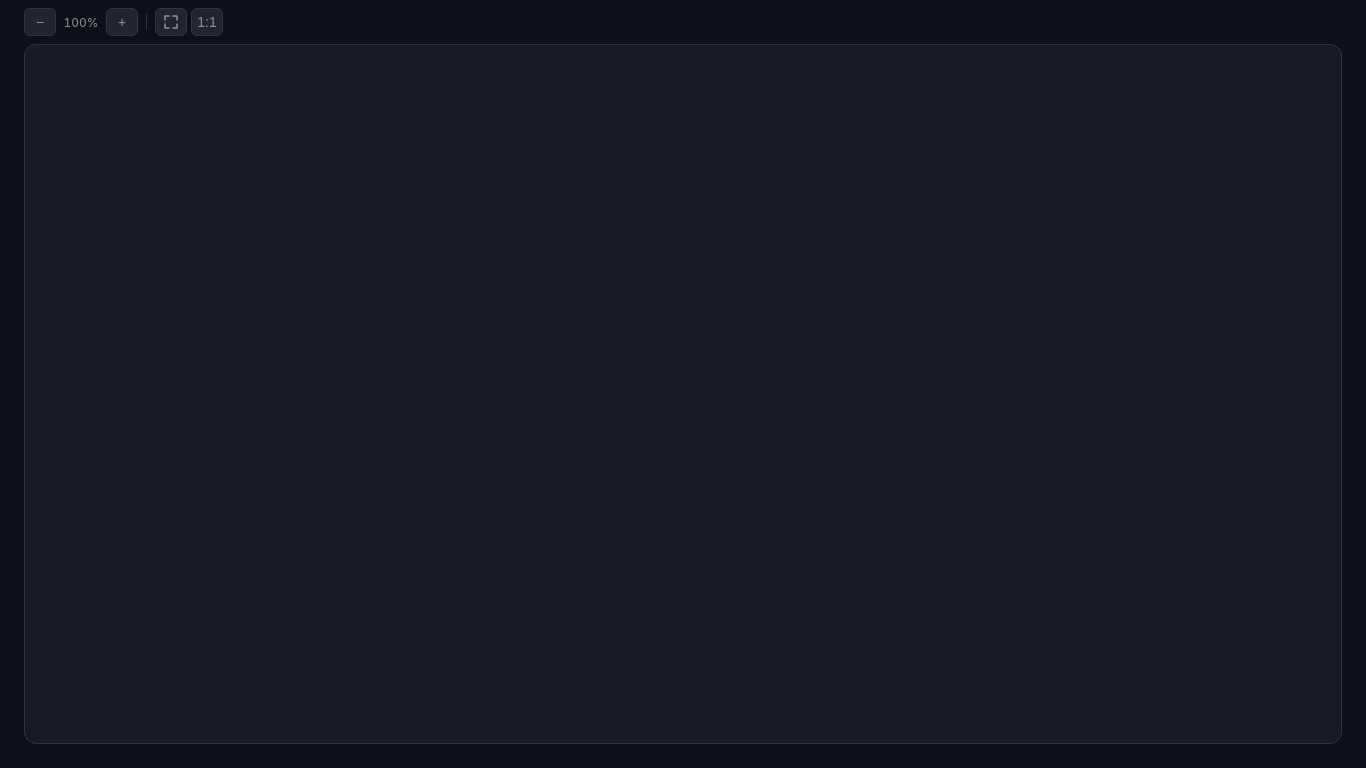
Test: Diagram › zoom in button increases zoom level
The width and height of the screenshot is (1366, 768).
Click the button titled "Zoom in" at (122, 22), box 106,8 -> 138,36
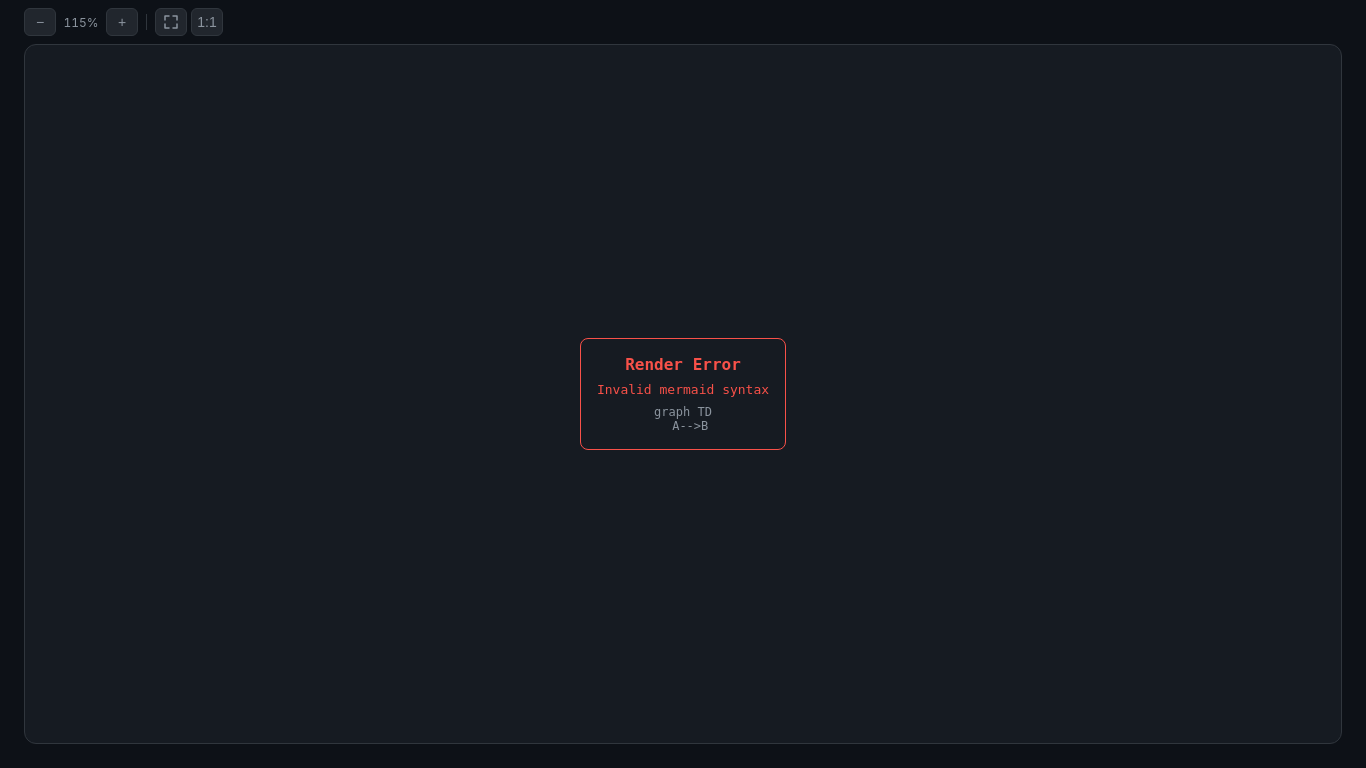
Now the text "115%" is shown, box 63,14 -> 98,30
